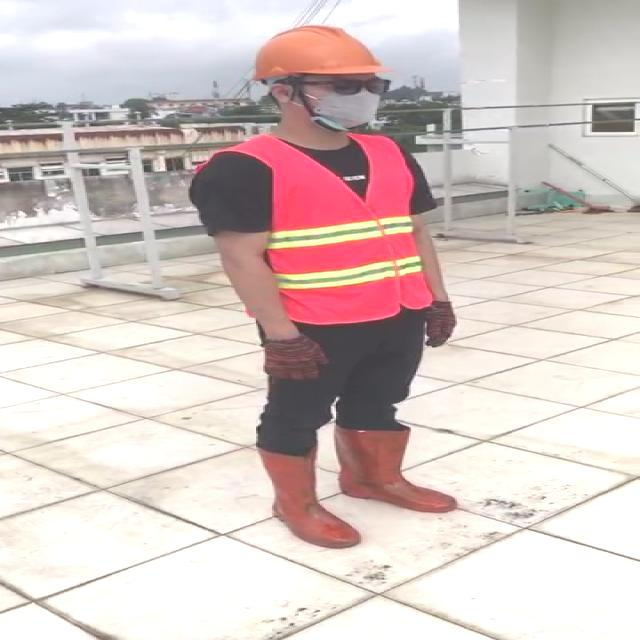boots: (332, 423, 457, 514), (259, 444, 361, 547)
gloves: (234, 321, 338, 389), (411, 290, 483, 364)
helmet: (245, 22, 392, 80)
vest: (253, 136, 427, 319)
